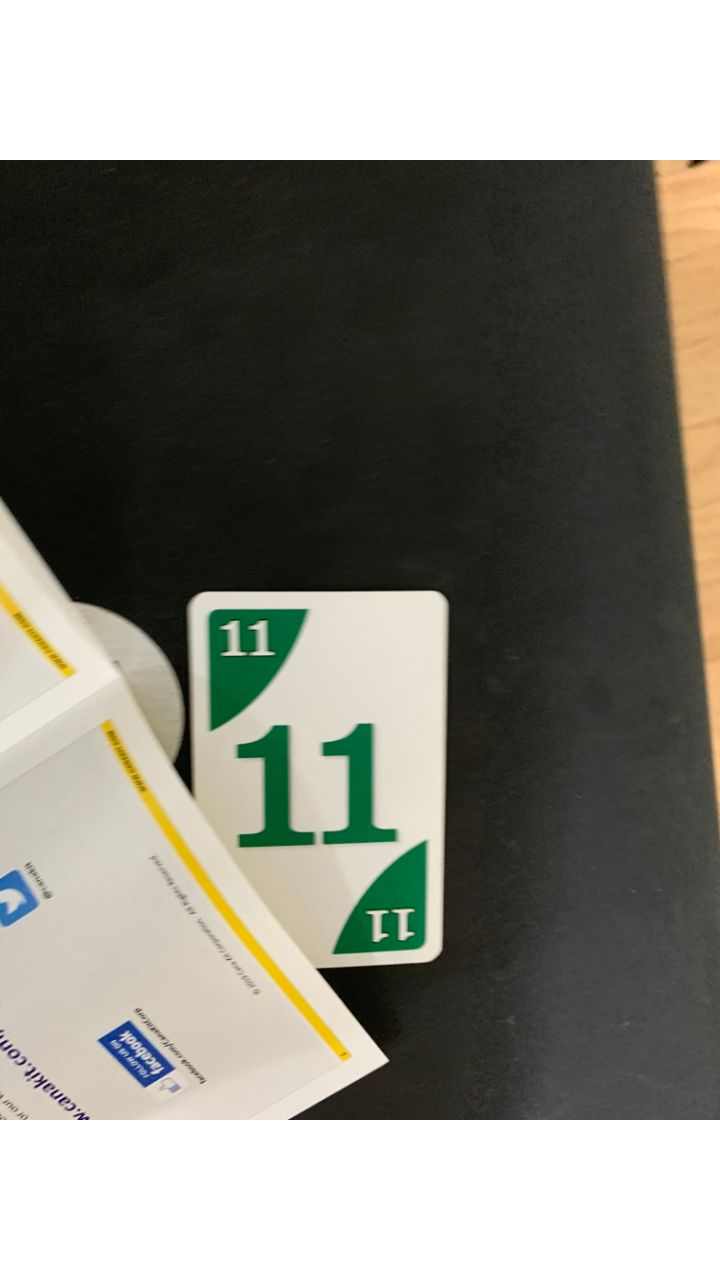eleven: (183, 587, 448, 966)
